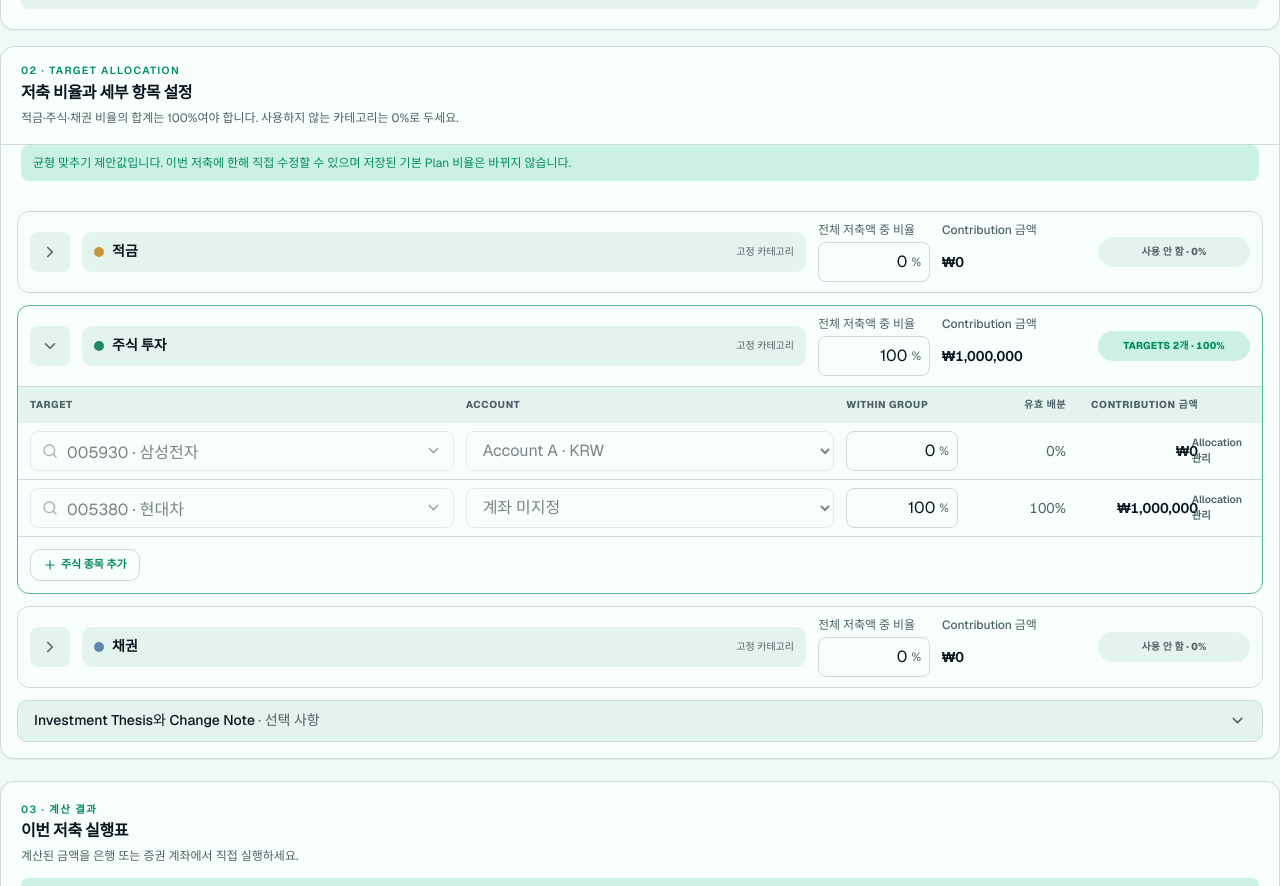
Scenario: Contribution Plan page › balances inside the stock bucket and keeps manual execution edits local to this contribution
This screenshot has width=1280, height=886.
(page scrolled)
Replace the text in the field named "Within Group (%)" with "60": [893, 451] box [847, 432, 939, 470]
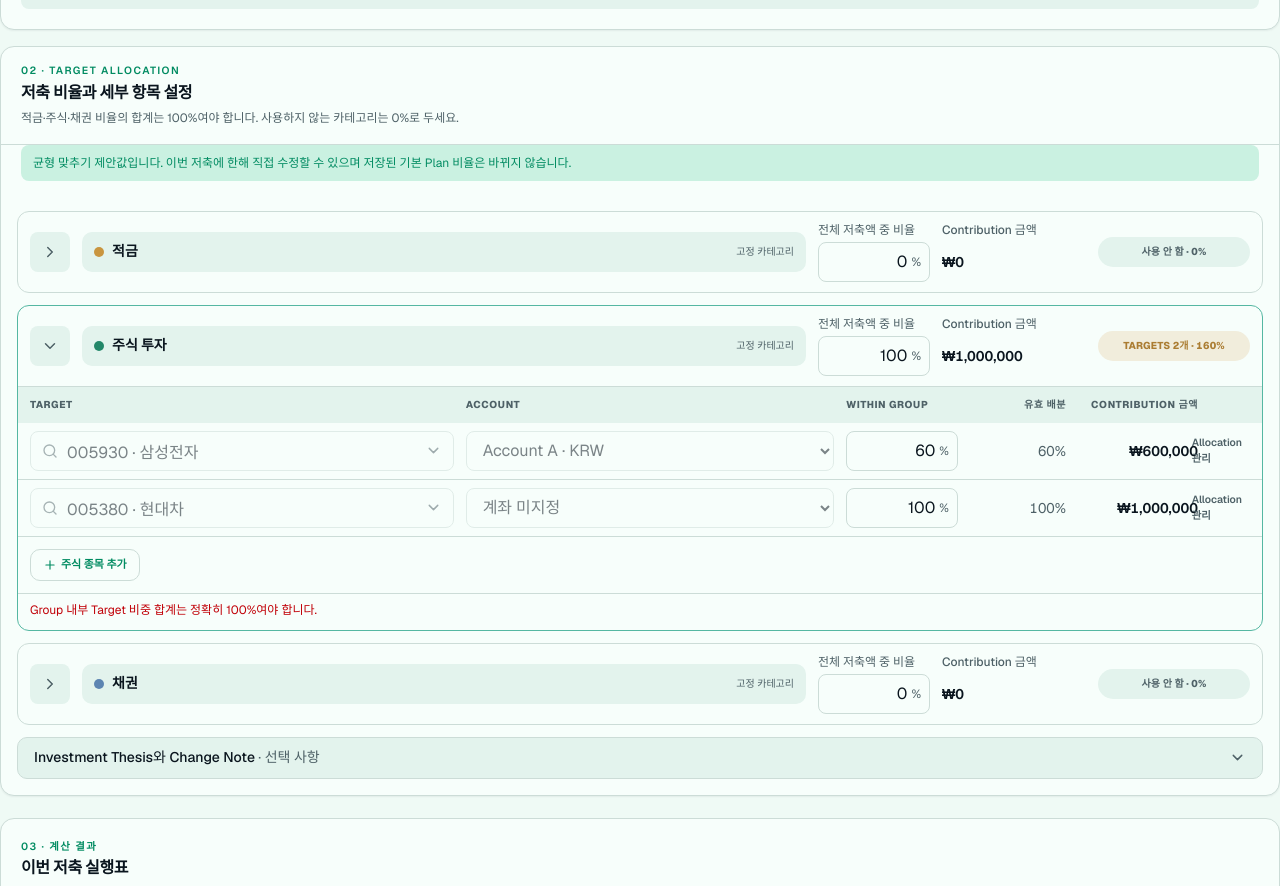
Replace the text in the field named "Within Group (%)" with "40": [893, 508] box [847, 489, 939, 527]
(page scrolled)
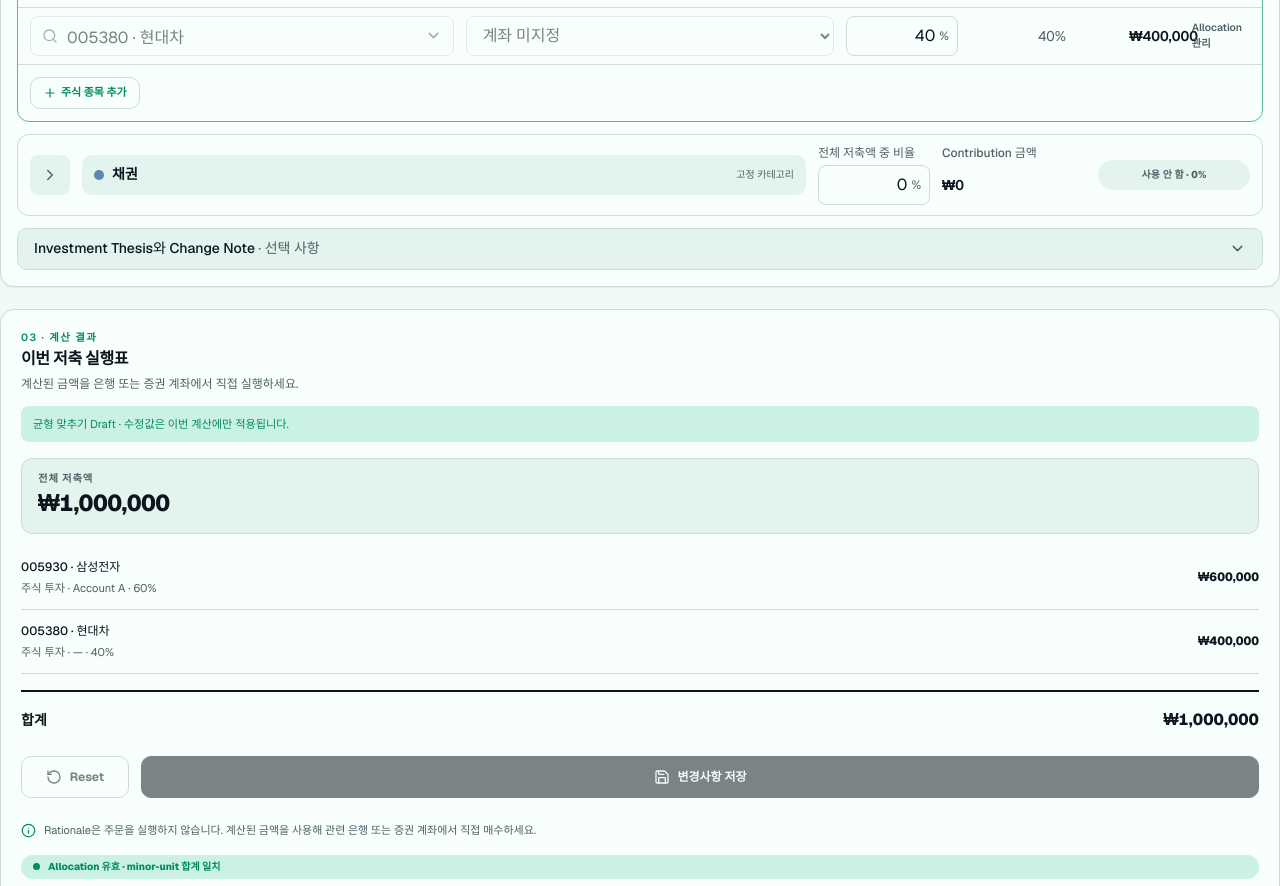
Result: the text "₩600,000" is shown at [1198, 568, 1259, 586]
Result: the text "₩400,000" in the row of "005380 · 현대차" is shown at [1198, 633, 1259, 649]
